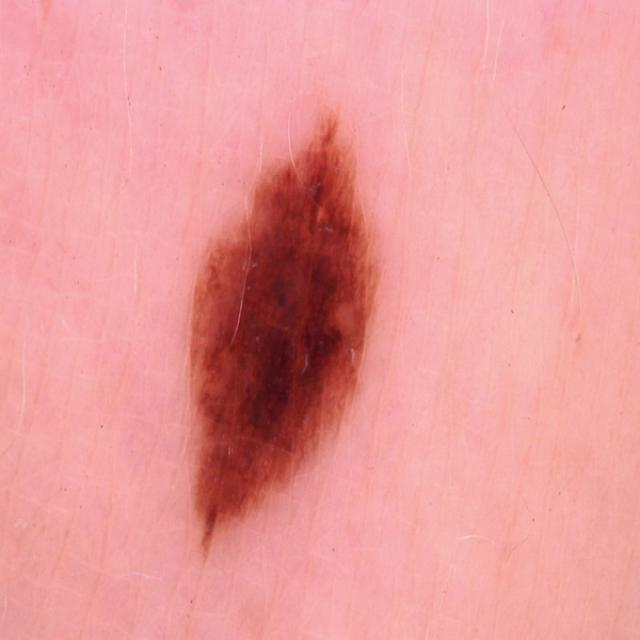NV: (189, 110, 380, 562)
